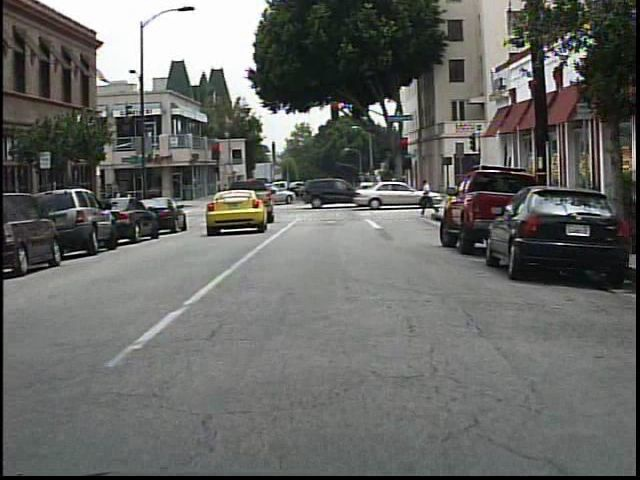person: (417, 176, 440, 219)
